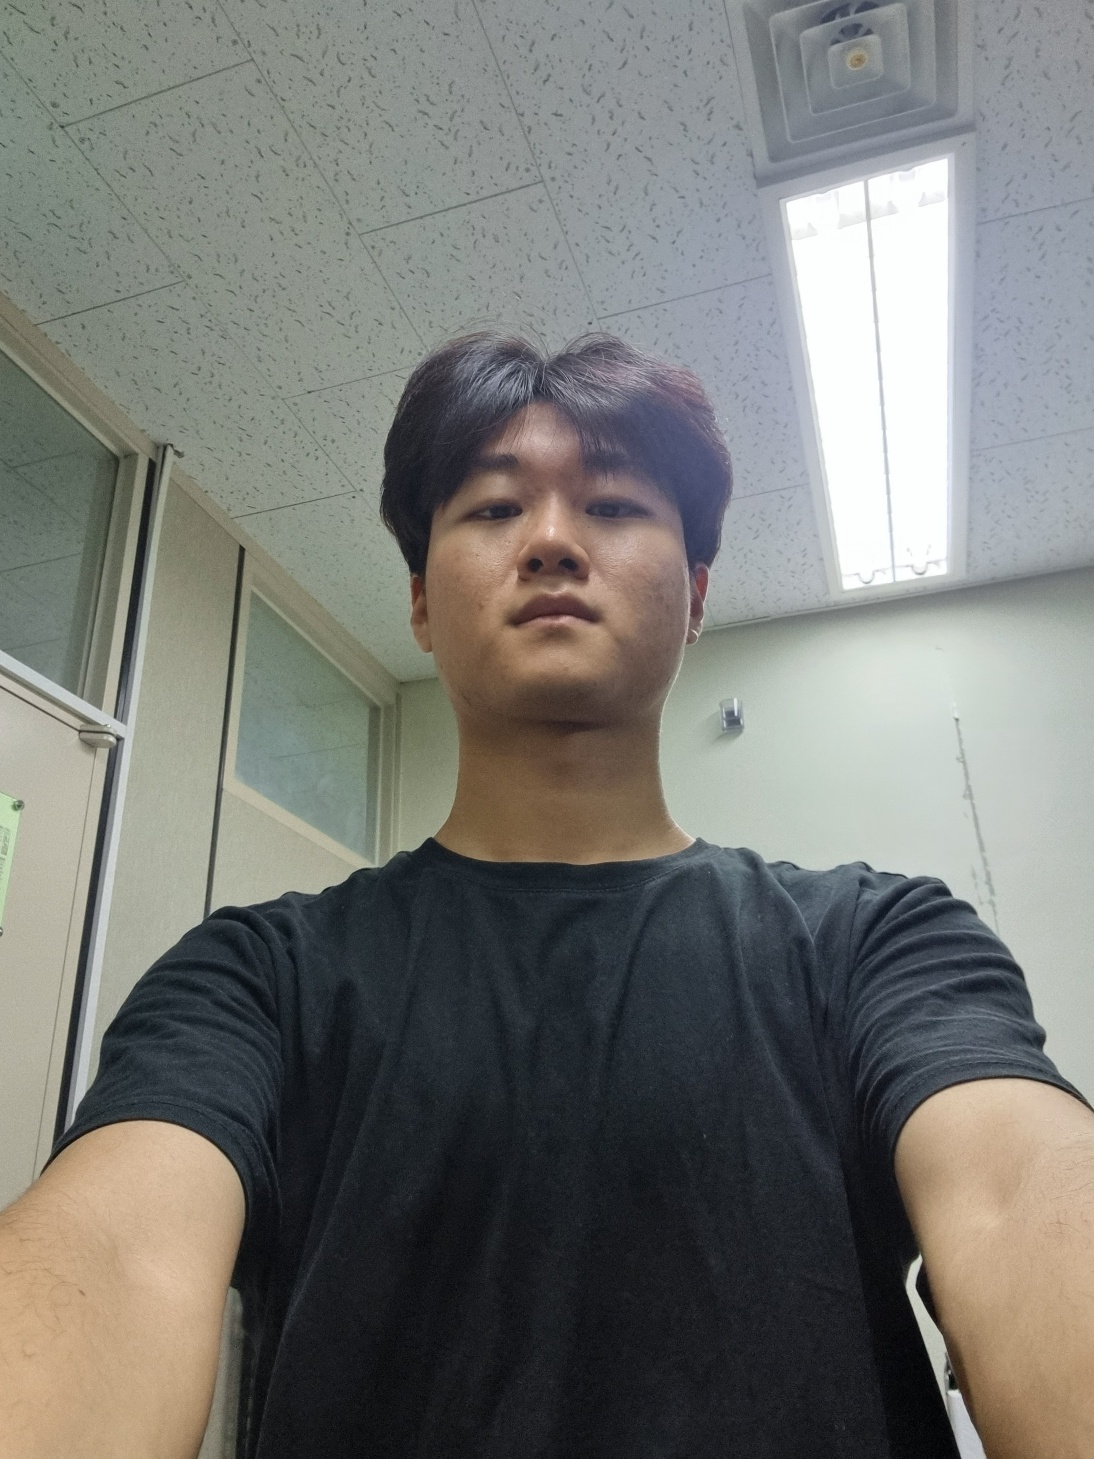Non-Helmet: (315, 265, 778, 766)
